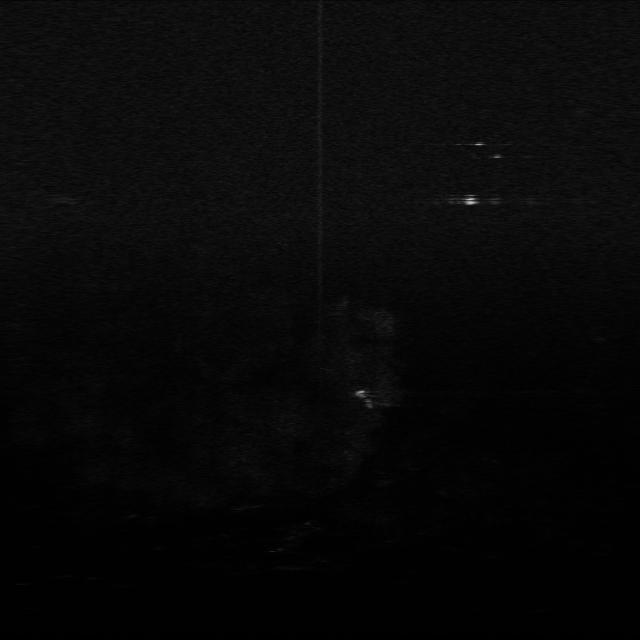rov: (456, 190, 482, 210)
